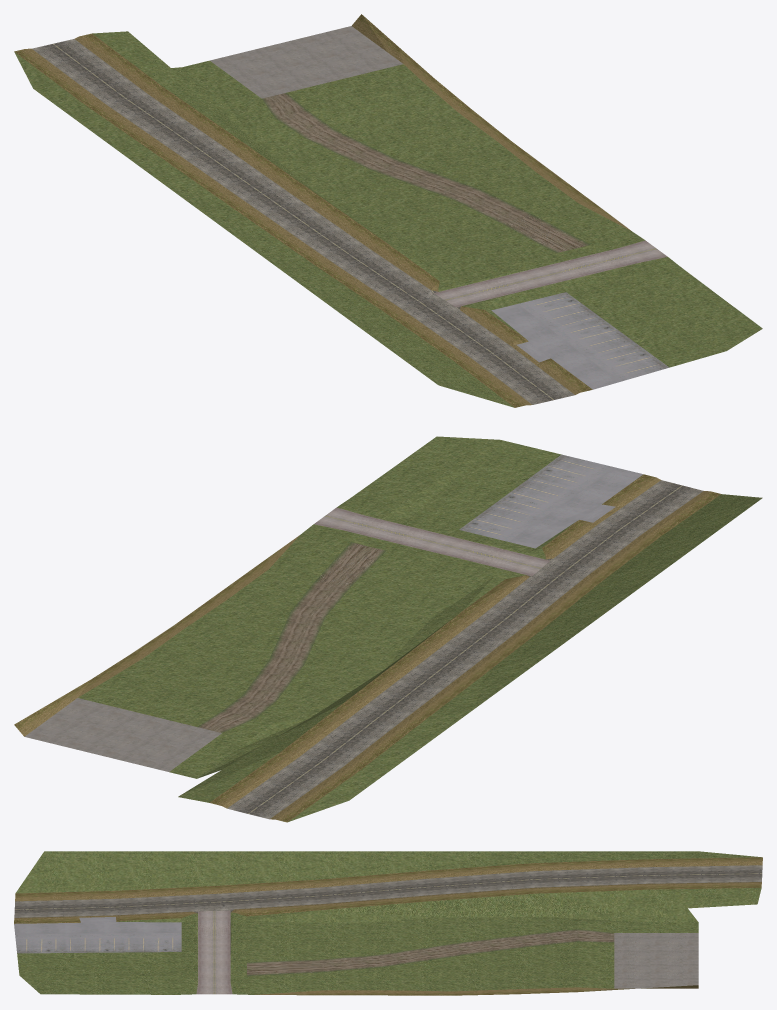
Rendered from ne_bit_20.obj.
3 views of the same model, one above another, from view 1: azimuth 30°, elevation 25°; view 2: azimuth 150°, elevation 25°; view 3: azimuth 270°, elevation 25° (orthographic). The views are drawn at different scales.
Parts seen in each view (by area): view 1: ne_bit_20; view 2: ne_bit_20; view 3: ne_bit_20.
Part boxes in pixels (left/top/right/bottom): ne_bit_20: left=14, top=14, right=762, bottom=407; ne_bit_20: left=14, top=436, right=762, bottom=822; ne_bit_20: left=14, top=851, right=762, bottom=995.
Bounding box in the file's own units: 93.6 × 7.55 × 229.
11 materials, 11 textured.
